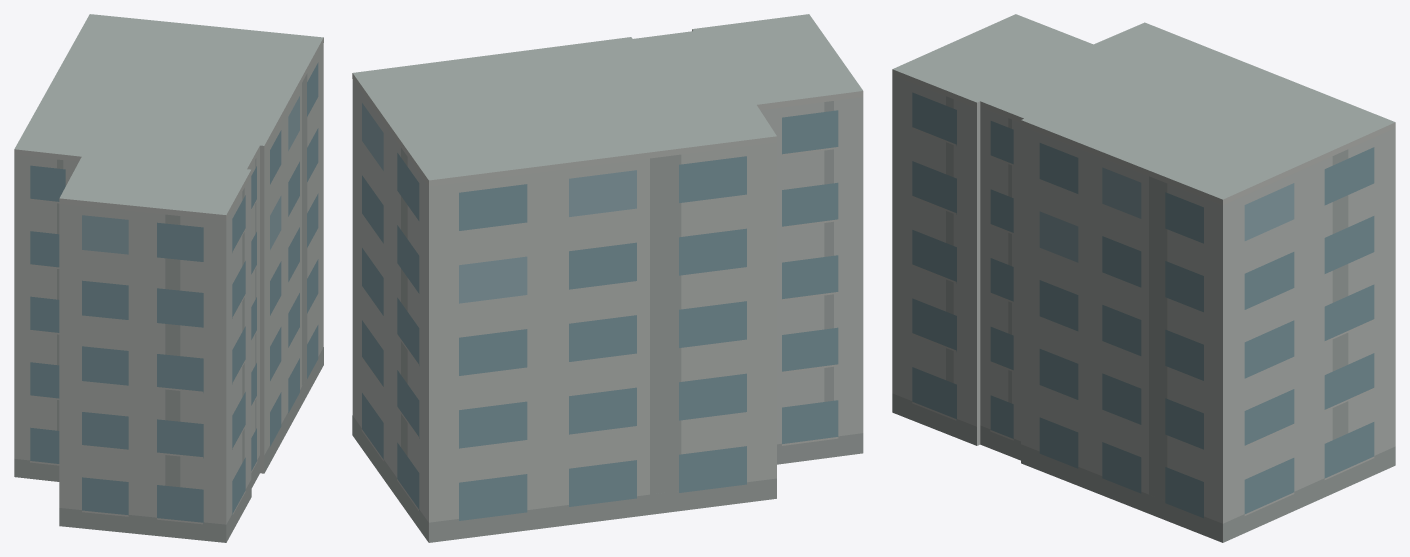
File: survey-upis-32837787.glb
The picture shows the model from 3 angles, left to right: view 1: azimuth 30°, elevation 25°; view 2: azimuth 150°, elevation 25°; view 3: azimuth 270°, elevation 25°; orthographic projection. The views are drawn at different scales.
Parts seen in each view (by area): view 1: survey-upis-32837787.tmp; view 2: survey-upis-32837787.tmp; view 3: survey-upis-32837787.tmp.
Part boxes in pixels (box(x1,y1,x2,y2)): survey-upis-32837787.tmp: box(14, 14, 323, 542); survey-upis-32837787.tmp: box(352, 14, 863, 542); survey-upis-32837787.tmp: box(892, 14, 1395, 542).
Bounding box in the file's own units: 16.82 × 14.5 × 19.27.
